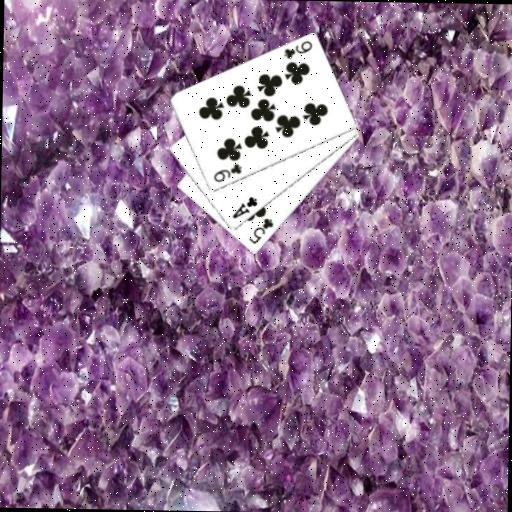5C: (246, 215, 276, 247)
9C: (211, 160, 244, 185), (281, 37, 314, 61)
AC: (229, 193, 259, 221)
